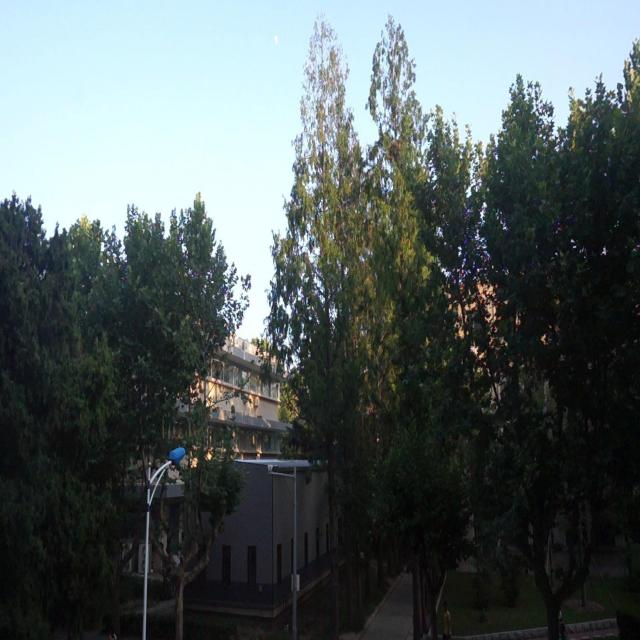UAV: (342, 199, 351, 210)
